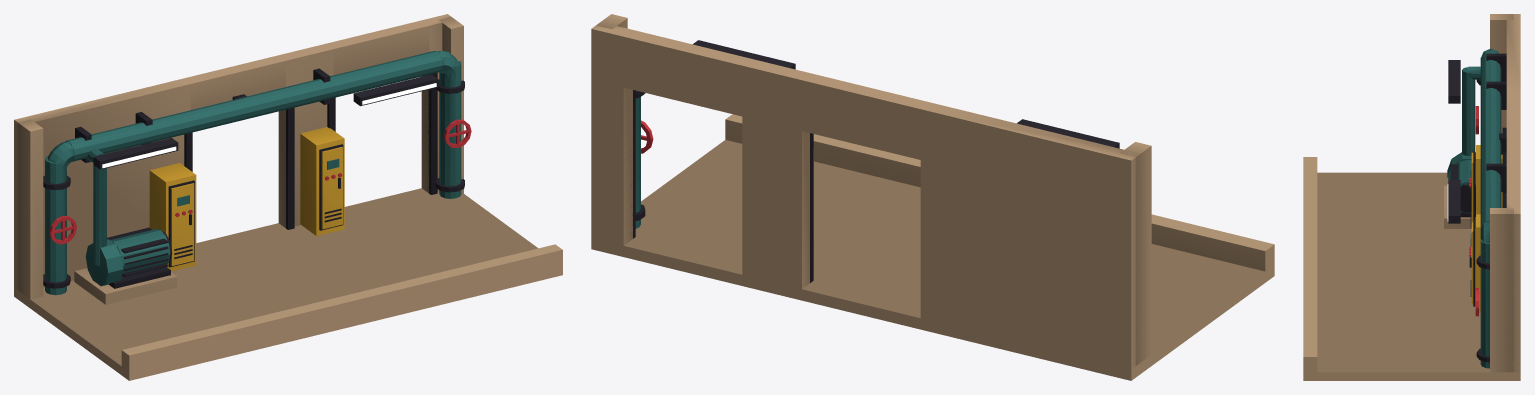
The model's file is kit.maintenance-corridor.lod1.glb.
3 renders of one model, left to right at view 1: azimuth 30°, elevation 25°; view 2: azimuth 150°, elevation 25°; view 3: azimuth 270°, elevation 25°, orthographic. The views are drawn at different scales.
Visible parts, largest first — view 1: body, body_emi_picketWhite; view 2: body; view 3: body.
Boxes of the visible parts, x1,y1,x2,y2 form: body: (14,14,562,380); body_emi_picketWhite: (102,83,436,168); body: (591,14,1274,380); body: (1303,14,1520,380).
Bounding box in the file's own units: 10 × 3.9 × 4.6.
